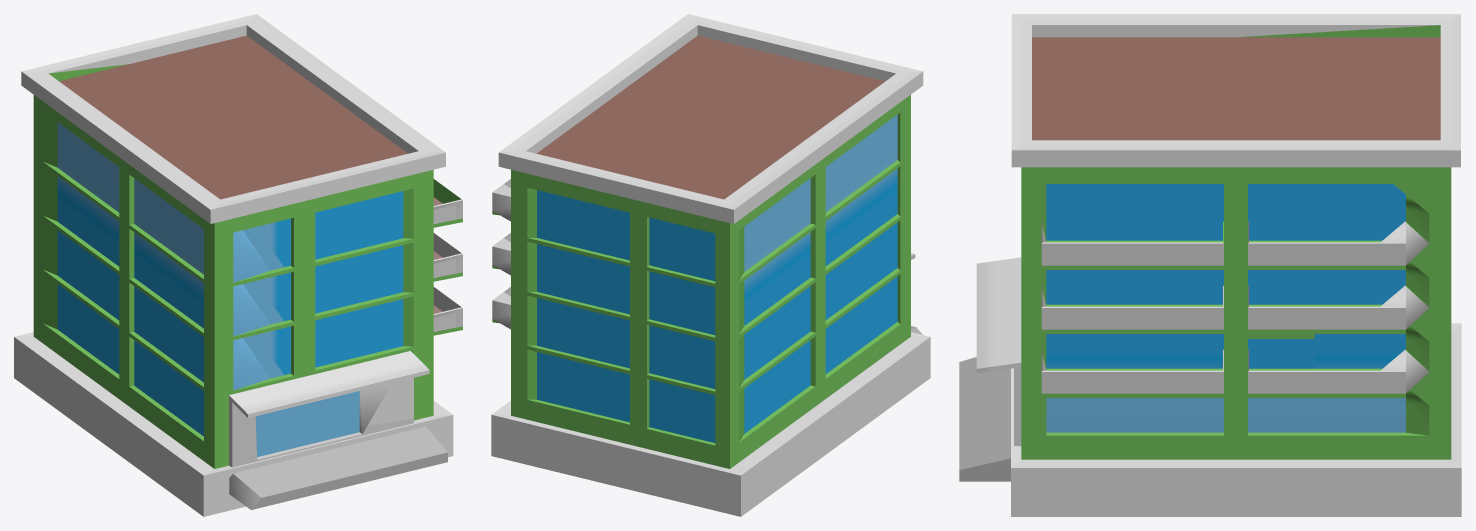
The model's file is GreenBuilding6x4x6.fbx.
The picture shows the model from 3 angles, left to right: view 1: azimuth 30°, elevation 25°; view 2: azimuth 150°, elevation 25°; view 3: azimuth 270°, elevation 25°; orthographic projection. The views are drawn at different scales.
Parts seen in each view (by area): view 1: House; view 2: House; view 3: House.
Part boxes in pixels (x1=…): House: x1=14, y1=14, x2=462, y2=516; House: x1=491, y1=14, x2=930, y2=516; House: x1=959, y1=14, x2=1461, y2=516.
Bounding box in the file's own units: 5.57 × 5.97 × 7.5.
1 material, 1 textured.
